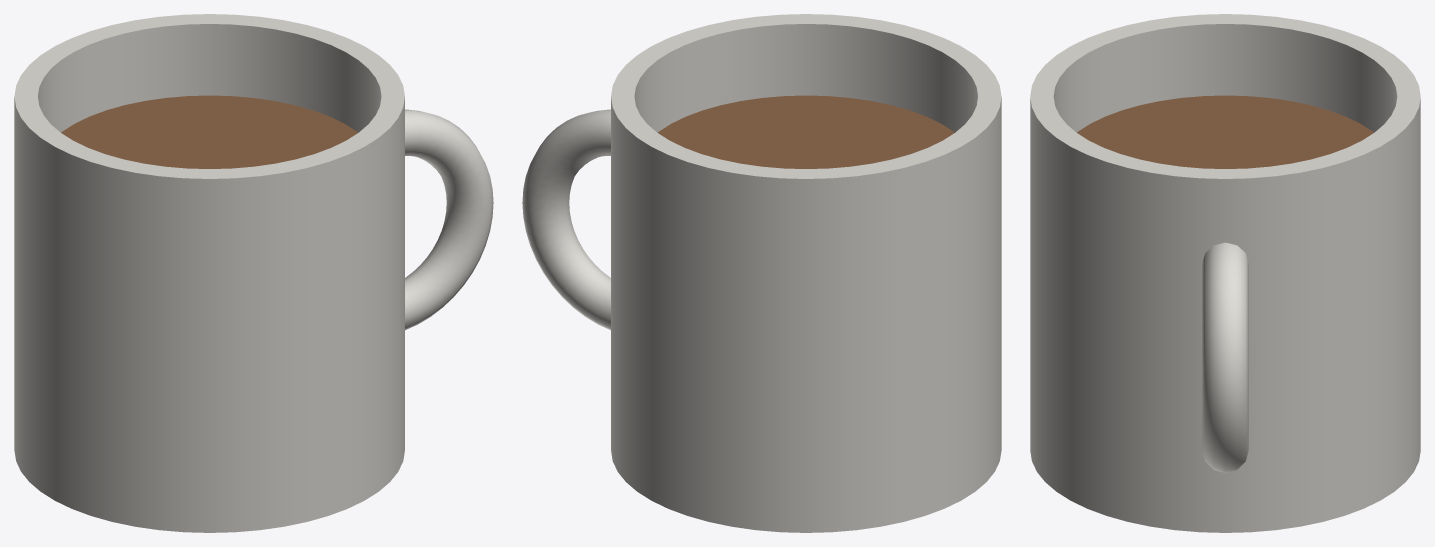
File: taza.glb
3 renders of one model, left to right at view 1: azimuth 30°, elevation 25°; view 2: azimuth 150°, elevation 25°; view 3: azimuth 270°, elevation 25°, orthographic.
Visible parts, largest first — view 1: taza; view 2: taza; view 3: taza.
Boxes of the visible parts, box(x1,y1,x2,y2) form: taza: box(14, 14, 493, 532); taza: box(522, 14, 1001, 532); taza: box(1030, 14, 1420, 532).
Bounding box in the file's own units: 1.33 × 1 × 1.
